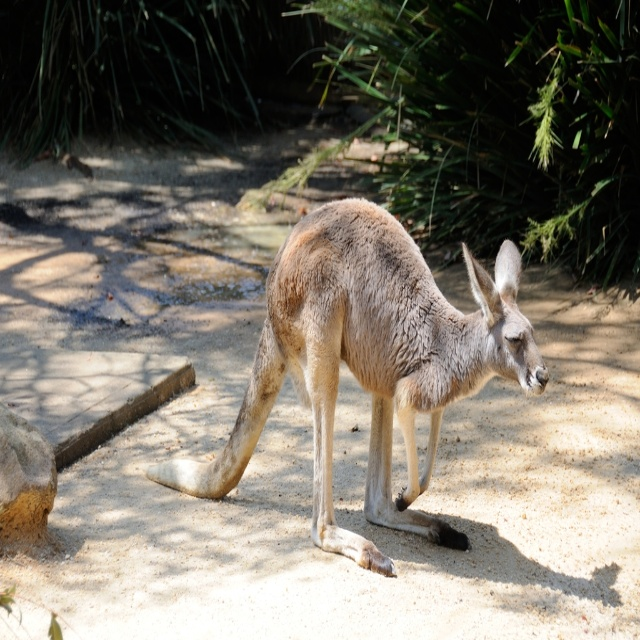Kangaroo: (146, 198, 547, 577)
